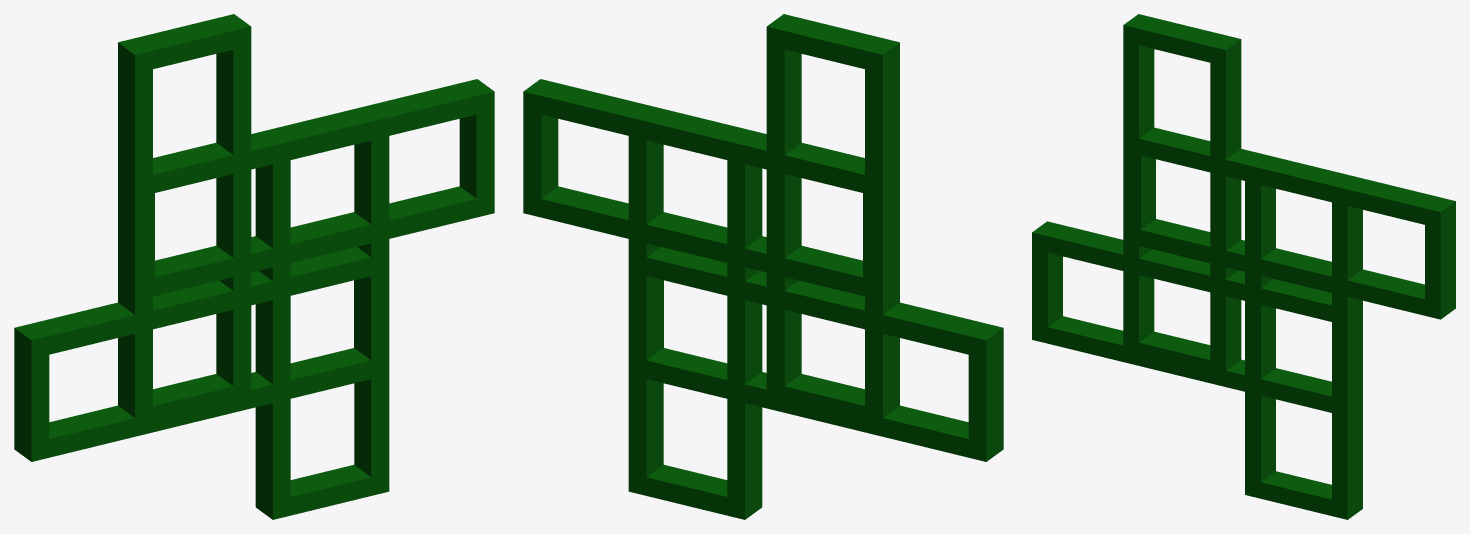
File: Frame5.FBX
The picture shows the model from 3 angles, left to right: view 1: azimuth 30°, elevation 25°; view 2: azimuth 150°, elevation 25°; view 3: azimuth 330°, elevation 25°; orthographic projection. The views are drawn at different scales.
Visible parts, largest first — view 1: Box015; view 2: Box015; view 3: Box015.
Part boxes in pixels (box(x1,y1,x2,y2)): Box015: box(14, 14, 494, 519); Box015: box(523, 14, 1003, 519); Box015: box(1032, 14, 1455, 519).
Bounding box in the file's own units: 2.07 × 2.13 × 0.1328.
